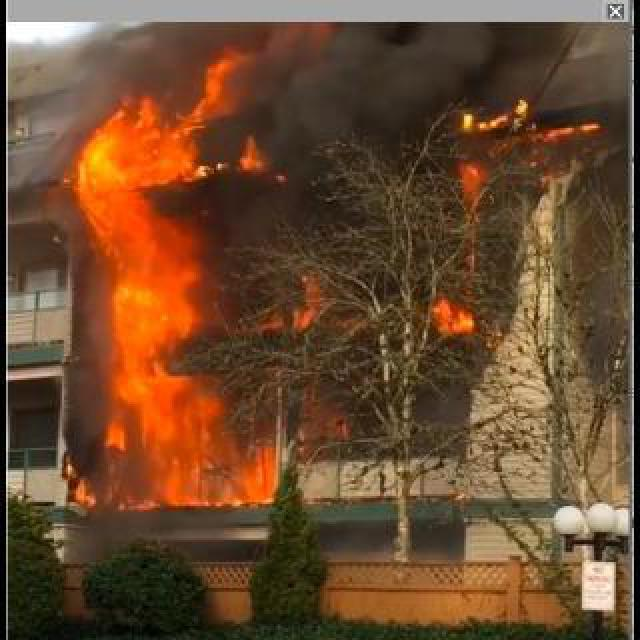fire: (62, 54, 284, 512), (446, 92, 606, 166)
smoke: (268, 14, 446, 166)
